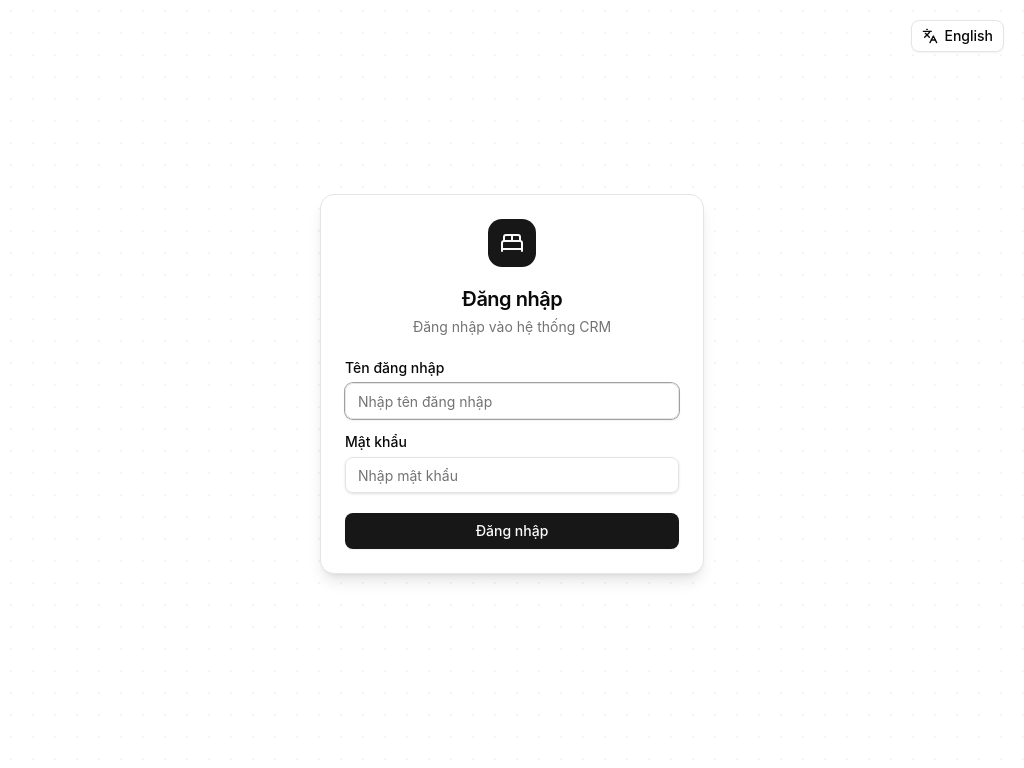
Test case: LoginPage › shows a translated form error when login fails
Type "alice" into the field labelled "Tên đăng nhập" at (512, 401), box [345, 383, 679, 419]
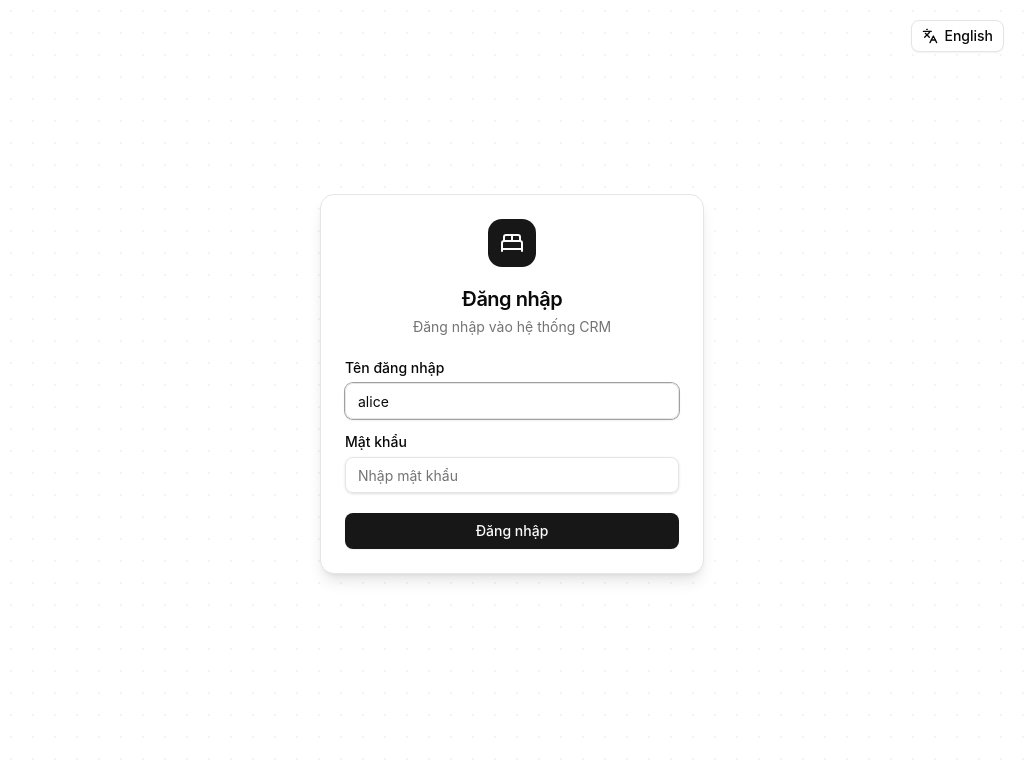
Type "wrong" into the password field labelled "Mật khẩu" at (512, 475), box [345, 457, 679, 493]
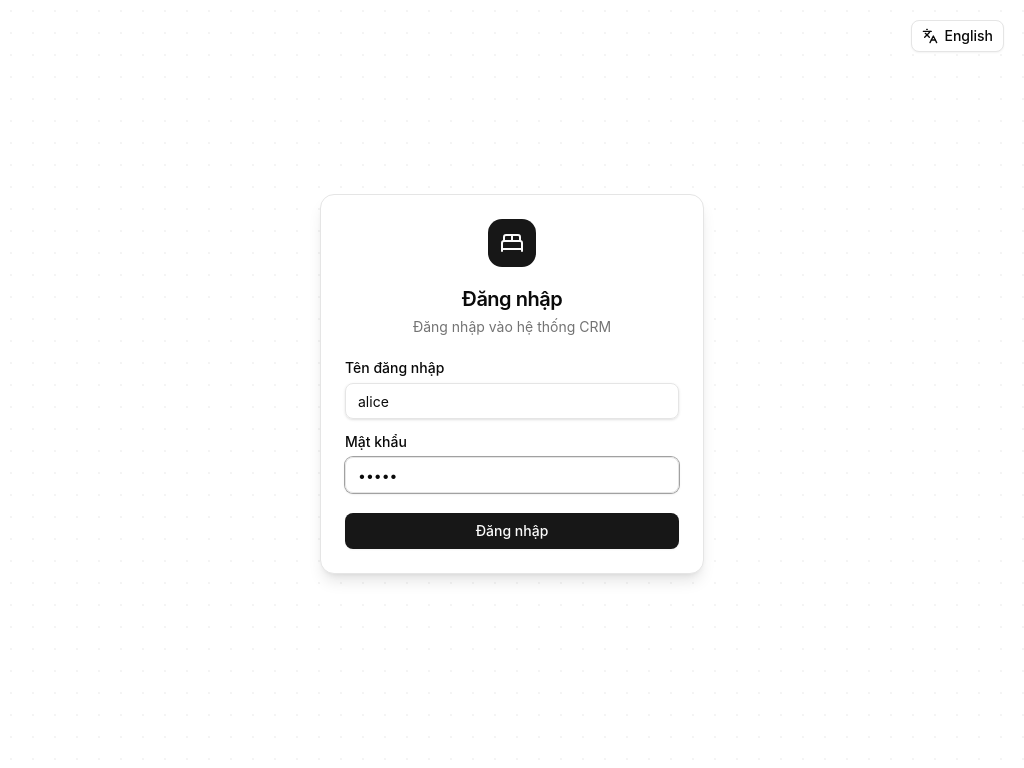
Click the button "Đăng nhập" at (512, 531), box [345, 513, 679, 549]
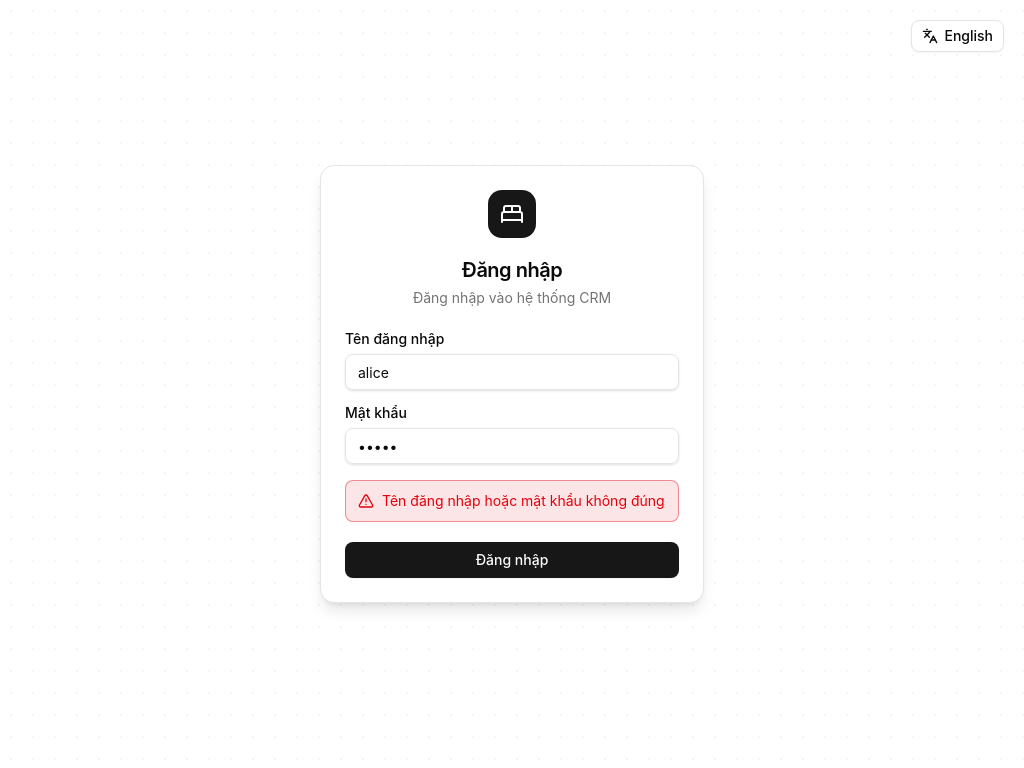
Expected: the text "Tên đăng nhập hoặc mật khẩu không đúng" is shown, [382, 491, 665, 511]
